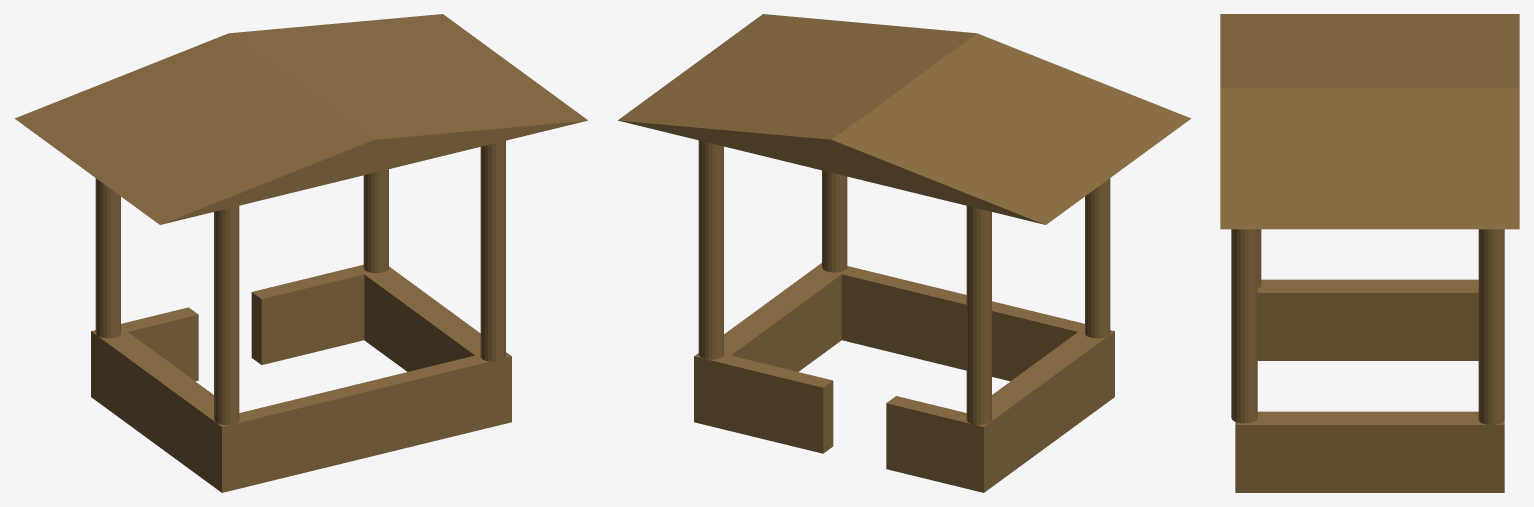
File: shack.gltf
3 renders of one model, left to right at view 1: azimuth 30°, elevation 25°; view 2: azimuth 150°, elevation 25°; view 3: azimuth 270°, elevation 25°, orthographic. The views are drawn at different scales.
Parts seen in each view (by area): view 1: Mesh_Mesh_head_geo.001_lambert2SG.001; view 2: Mesh_Mesh_head_geo.001_lambert2SG.001; view 3: Mesh_Mesh_head_geo.001_lambert2SG.001.
Part boxes in pixels (<box>): Mesh_Mesh_head_geo.001_lambert2SG.001: <box>15,14,587,492</box>; Mesh_Mesh_head_geo.001_lambert2SG.001: <box>618,14,1190,492</box>; Mesh_Mesh_head_geo.001_lambert2SG.001: <box>1220,14,1519,492</box>.
Size of the model in its own units: 136 by 98 by 80.
